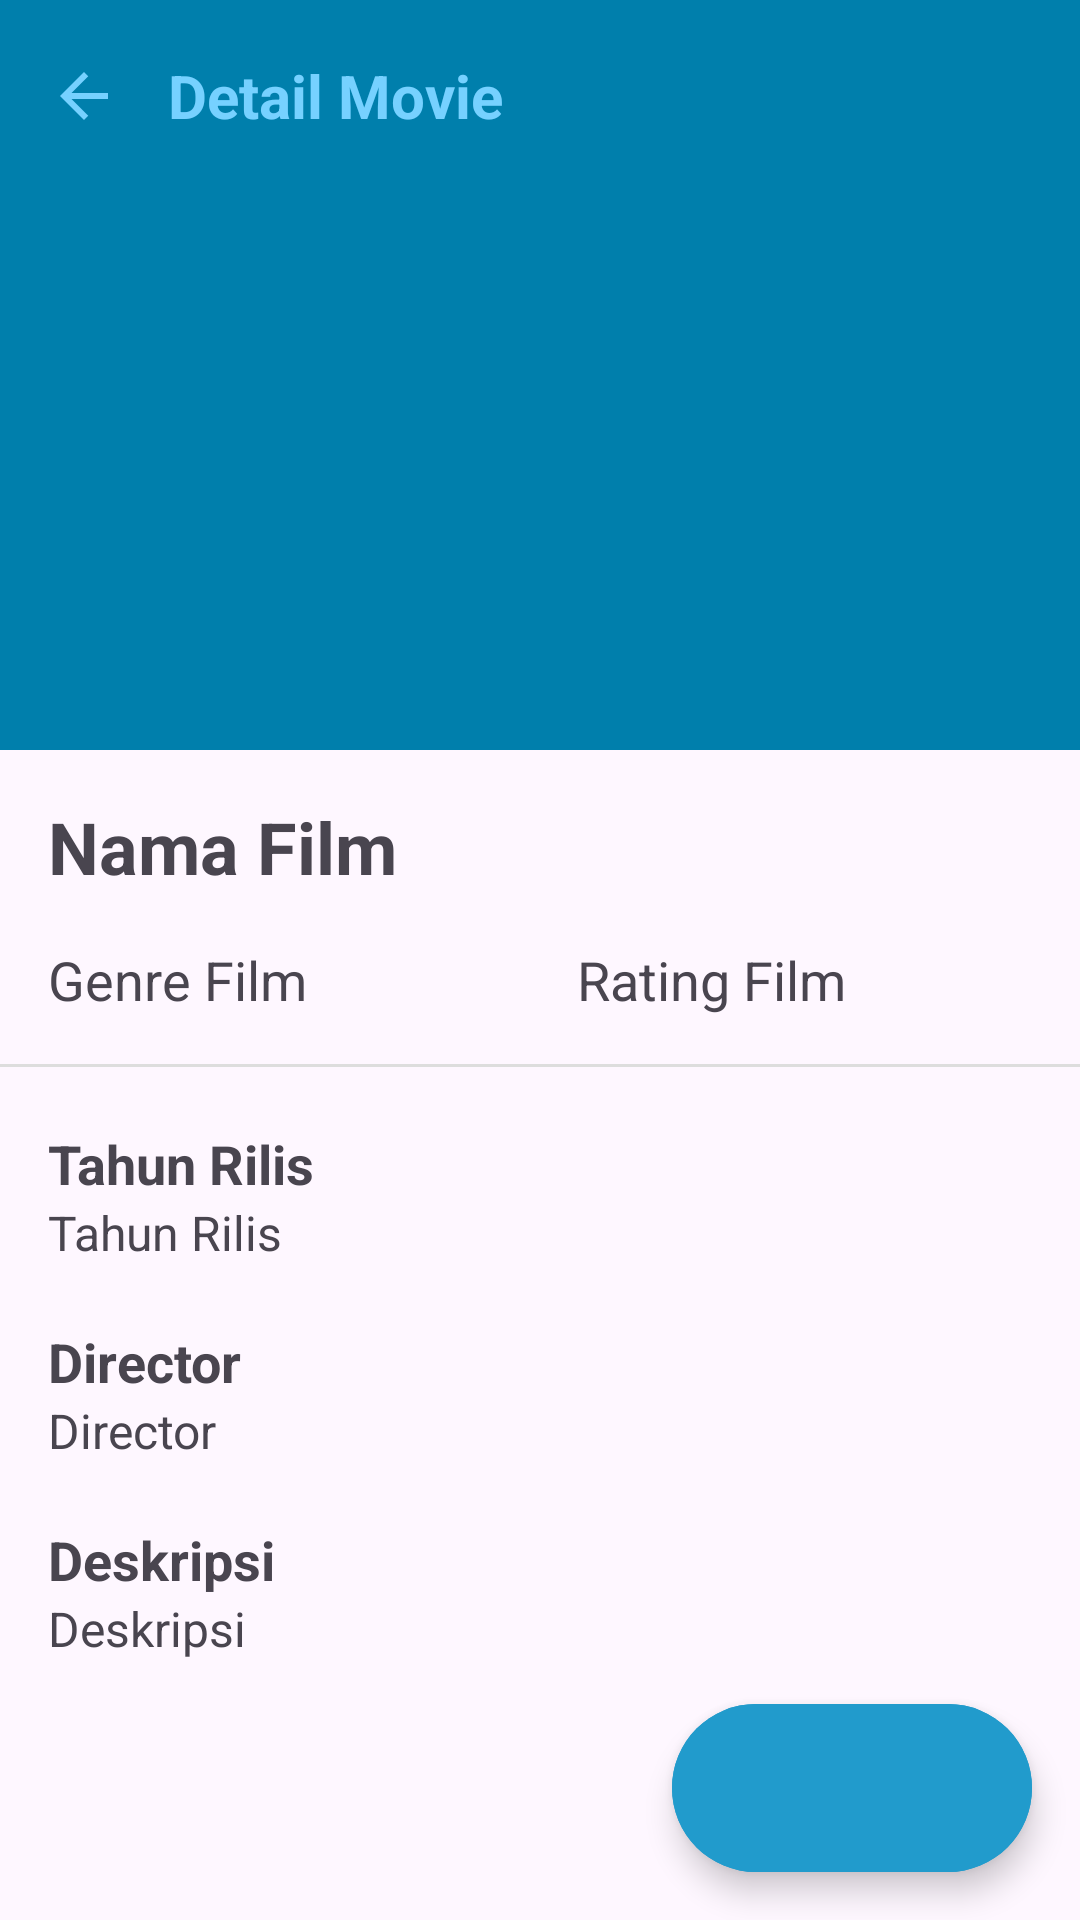

Point at icon controls on the screen. Image size 1080w x 1920h, points as [x,y].
arrow back: [84,96]
